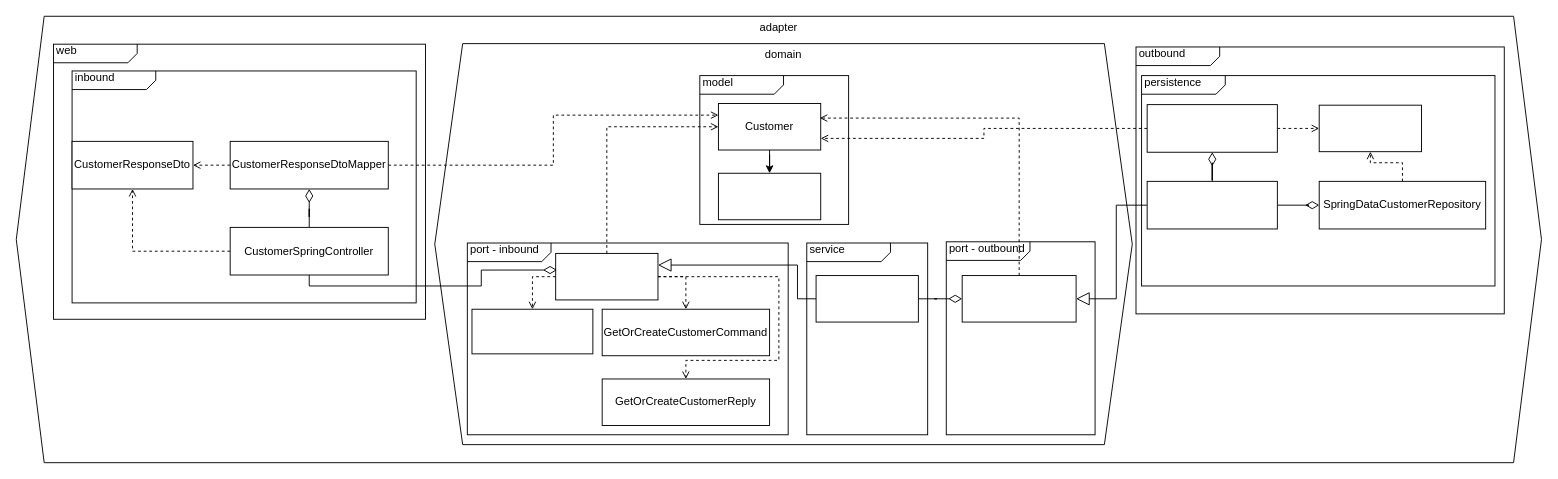
Image size: 1558x479. Some labels were removed from this diagram. The shapes that lost their labels are listed below. From the top down, each one's centre as x and y in pixels, then its label:
At pixel 1211 128: "CustomerEntityMapper".
At pixel 1370 128: "CustomerEntity".
At pixel 769 196: "«enum» CustomerStatus".
At pixel 1211 204: "H2CustomerRepository".
At pixel 606 276: "CustomerApi".
At pixel 866 298: "CustomerService".
At pixel 1018 298: "CustomerRepository".
At pixel 532 331: "GetAllCustomersReply".
